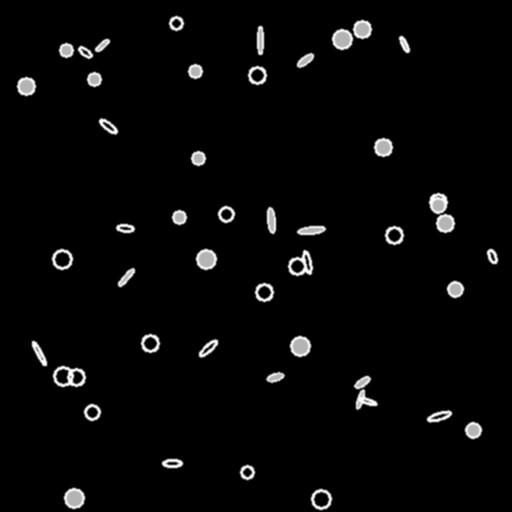pseudomonas: (30, 340, 48, 366), (197, 338, 219, 358), (116, 267, 136, 287), (426, 409, 452, 423), (98, 117, 118, 135), (295, 52, 315, 68), (301, 250, 313, 274), (353, 374, 371, 390), (266, 207, 276, 233), (298, 225, 324, 235), (94, 37, 110, 53), (77, 45, 93, 59), (486, 248, 498, 264), (398, 36, 410, 52), (266, 372, 284, 382), (355, 390, 365, 408), (358, 396, 376, 406), (116, 224, 134, 232), (163, 460, 182, 467), (257, 27, 262, 53)
synechocystis: (312, 490, 330, 508), (54, 367, 72, 385), (333, 30, 351, 48), (65, 489, 83, 507), (291, 337, 309, 355), (53, 250, 71, 268), (197, 250, 215, 268), (68, 369, 84, 385), (386, 227, 402, 243), (430, 194, 446, 210), (289, 258, 305, 274), (18, 78, 34, 94), (375, 139, 391, 155), (142, 335, 158, 351), (354, 21, 370, 37), (249, 67, 265, 83), (256, 284, 272, 300), (437, 215, 453, 231), (466, 423, 480, 437), (219, 207, 233, 221), (85, 405, 99, 419), (431, 198, 445, 212), (448, 282, 462, 296), (192, 152, 204, 164), (60, 44, 72, 56), (88, 73, 100, 85), (189, 65, 201, 77), (170, 17, 182, 29), (173, 211, 185, 223), (241, 466, 253, 478)
